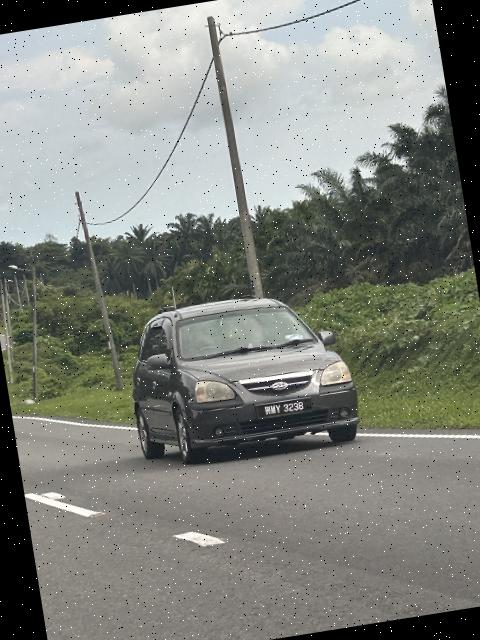License_Plate: (256, 395, 316, 423)
car: (120, 283, 370, 475)
